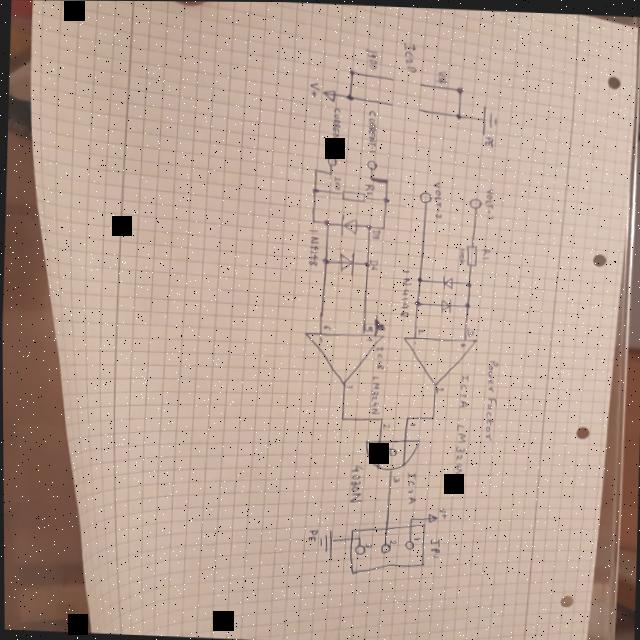diode: (336, 210, 359, 237), (335, 249, 357, 275), (436, 295, 453, 313), (439, 273, 456, 289)
ground: (478, 102, 499, 135), (318, 526, 335, 555)
junction: (345, 91, 355, 99), (455, 84, 465, 92), (463, 299, 472, 307), (321, 255, 330, 263), (465, 278, 473, 286), (415, 274, 423, 282), (323, 217, 331, 225), (413, 297, 421, 305), (403, 412, 411, 420), (455, 111, 463, 118), (382, 195, 390, 202), (326, 168, 335, 174), (338, 413, 346, 419), (311, 185, 319, 191), (348, 68, 356, 74), (382, 176, 390, 182), (379, 222, 387, 228), (365, 222, 373, 228), (310, 216, 317, 222), (429, 413, 436, 419), (313, 165, 319, 171), (363, 259, 369, 265), (367, 175, 374, 179), (407, 515, 412, 519), (378, 415, 383, 419)
resistor: (340, 187, 368, 201), (464, 243, 479, 265)
source: (321, 85, 337, 100), (426, 510, 438, 521)
terminal: (344, 517, 428, 576), (419, 189, 433, 202), (468, 195, 482, 207), (325, 154, 337, 164), (366, 158, 377, 168), (417, 80, 425, 86), (388, 100, 395, 106), (416, 105, 423, 111), (389, 74, 396, 80)
text: (481, 356, 500, 443), (453, 422, 469, 474), (397, 267, 413, 317), (347, 462, 364, 505), (366, 372, 383, 415), (364, 106, 379, 152), (329, 104, 344, 150), (305, 226, 322, 265), (430, 176, 445, 218), (402, 38, 419, 73), (482, 186, 497, 218), (425, 534, 442, 559), (404, 470, 417, 502), (457, 373, 469, 407), (364, 46, 381, 69), (373, 342, 385, 370), (434, 505, 450, 520), (434, 68, 449, 83), (305, 525, 319, 541), (308, 79, 321, 96), (455, 246, 466, 265), (478, 244, 491, 259), (481, 133, 495, 145), (332, 174, 343, 189), (364, 182, 375, 193), (369, 257, 379, 269), (360, 322, 374, 330), (371, 227, 381, 238), (391, 472, 401, 482), (322, 321, 332, 329), (466, 326, 476, 334), (417, 325, 425, 333), (381, 420, 389, 428), (436, 385, 446, 391), (457, 341, 467, 347), (409, 419, 417, 425), (346, 382, 354, 388), (410, 337, 418, 343), (318, 334, 324, 341), (365, 336, 373, 340)
